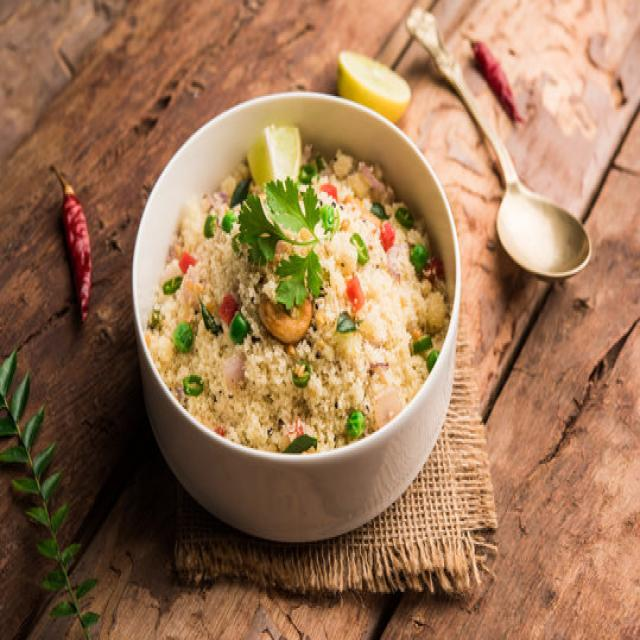UPMA: (155, 148, 447, 448)
